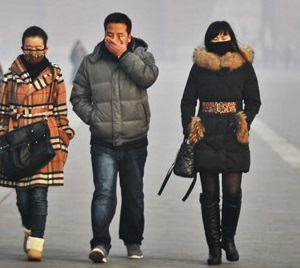person: (71, 11, 160, 263), (172, 19, 261, 265), (1, 24, 76, 264)
